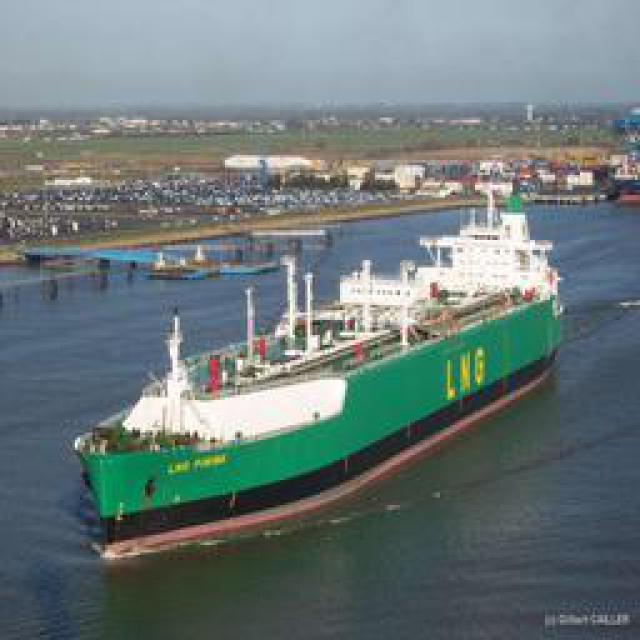Ship: (75, 168, 570, 576)
